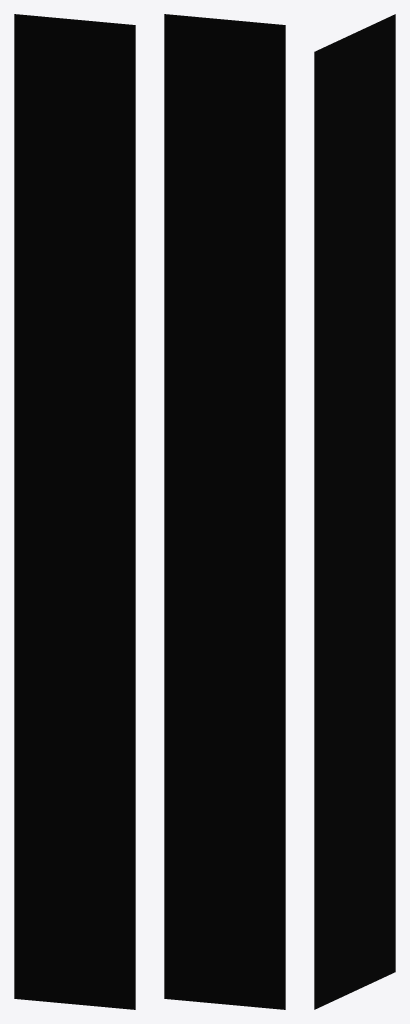
3 views of the same model, side by side, from view 1: azimuth 30°, elevation 25°; view 2: azimuth 210°, elevation 25°; view 3: azimuth 270°, elevation 25° (orthographic). The views are drawn at different scales.
Bounding box in the file's own units: 0.7634 × 9 × 0.6924.
Materials: 1 (1 with a texture image).
